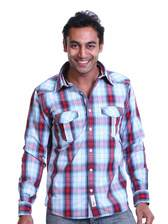clothoes: (13, 59, 153, 222)
